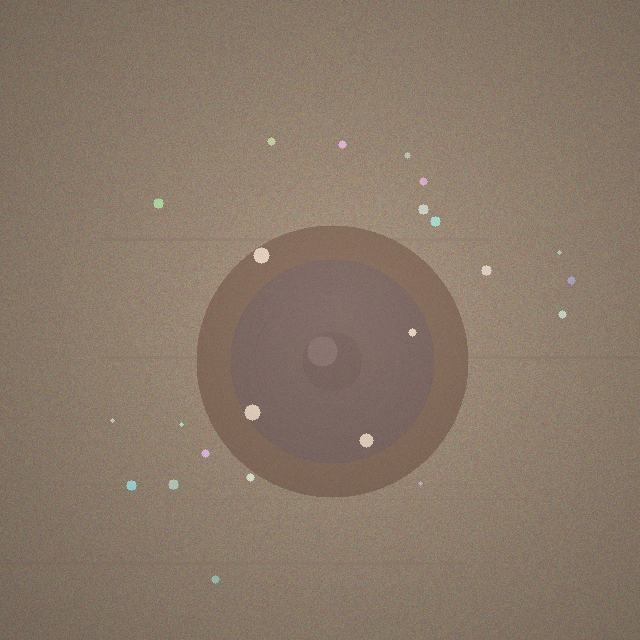overburn: (196, 225, 468, 497)
